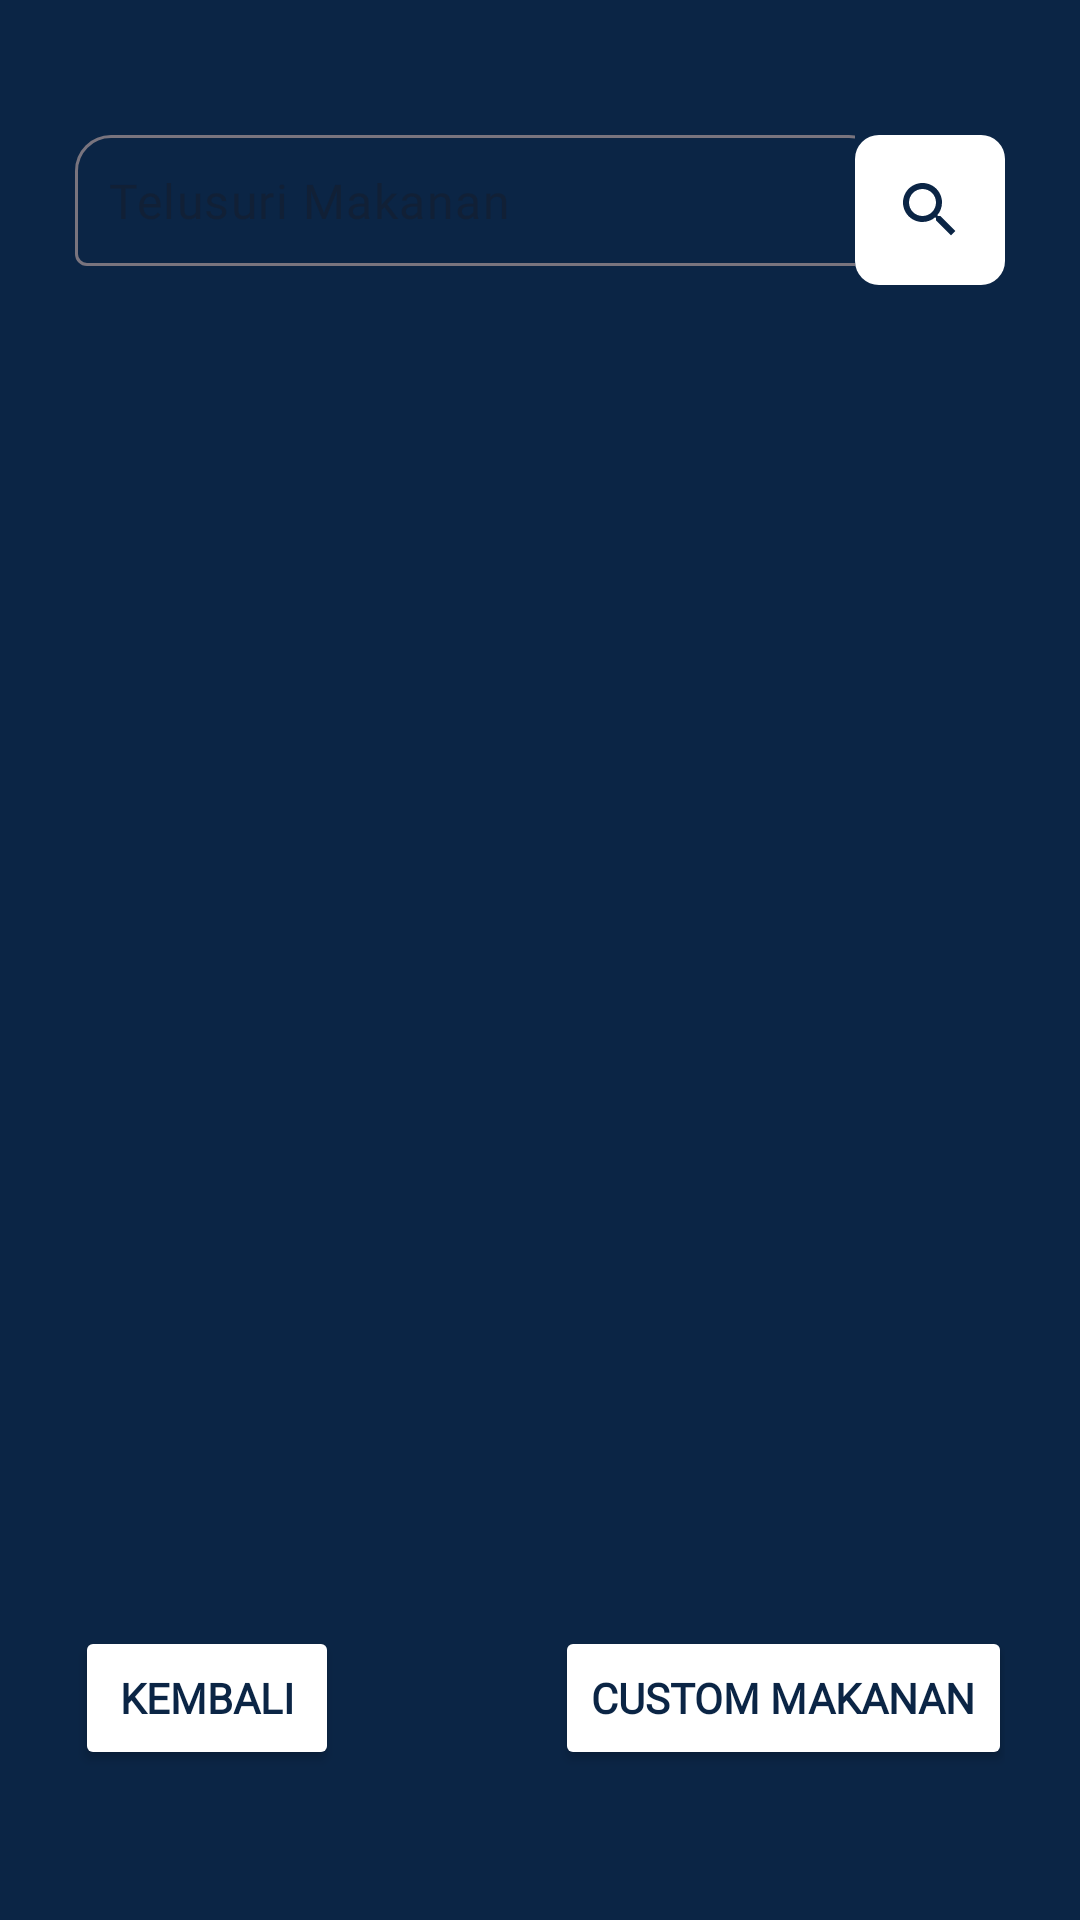

Icons on this 1080px x 1920px Android screen, each with its box as (x1, y1, x2, y2):
search: (855, 135, 1005, 285)
